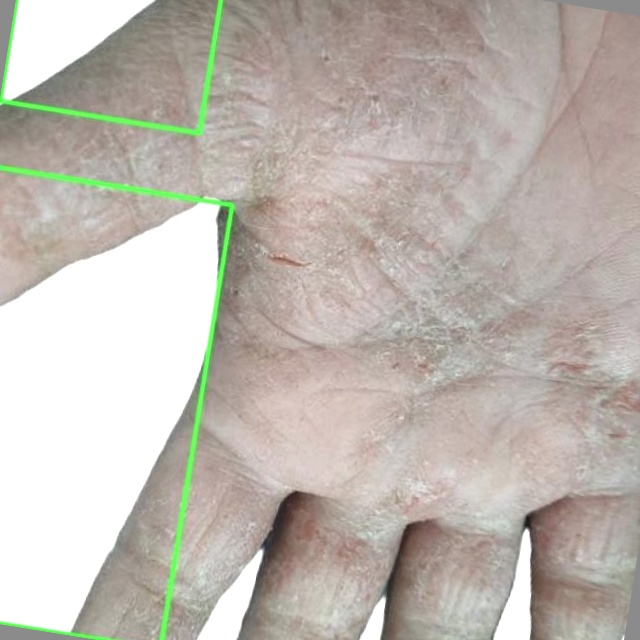Contact Dermatitis: (0, 167, 232, 639), (0, 0, 221, 133)
